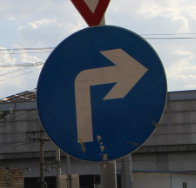right_turn: (36, 26, 168, 162)
